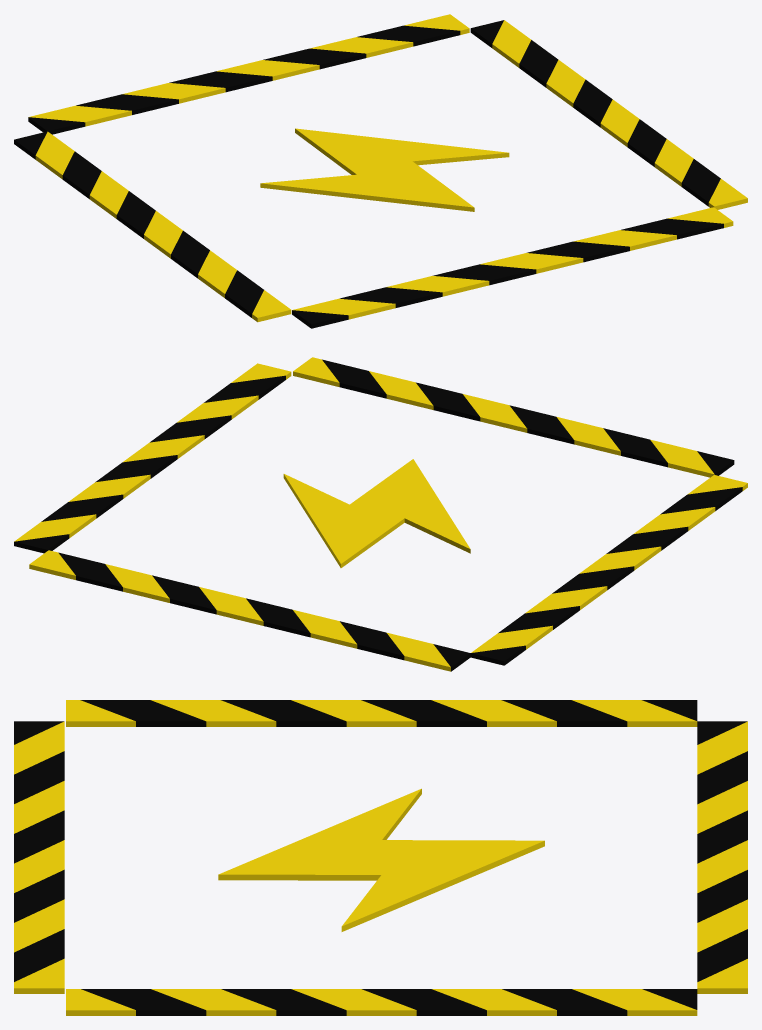
File: 차징존.fbx
3 renders of one model, top to bottom at view 1: azimuth 30°, elevation 25°; view 2: azimuth 150°, elevation 25°; view 3: azimuth 270°, elevation 25°, orthographic. The views are drawn at different scales.
Visible parts, largest first — view 1: Rectangle002, Rectangle003, Rectangle006, Rectangle004, Rectangle005; view 2: Rectangle003, Rectangle002, Rectangle004, Rectangle005, Rectangle006; view 3: Rectangle004, Rectangle005, Rectangle006, Rectangle003, Rectangle002.
Boxes of the visible parts, box(x1,y1,x2,y2) form: Rectangle002: box(292, 207, 733, 328); Rectangle003: box(28, 14, 469, 134); Rectangle006: box(260, 128, 509, 211); Rectangle004: box(14, 131, 291, 322); Rectangle005: box(470, 20, 747, 209); Rectangle003: box(29, 550, 470, 671); Rectangle002: box(293, 357, 734, 477); Rectangle004: box(470, 475, 747, 665); Rectangle005: box(14, 363, 291, 553); Rectangle006: box(283, 459, 470, 567); Rectangle004: box(66, 700, 697, 726); Rectangle005: box(66, 989, 697, 1015); Rectangle006: box(218, 788, 544, 931); Rectangle003: box(697, 721, 747, 993); Rectangle002: box(14, 721, 64, 993).
Bounding box in the file's own units: 1.16 × 0.01 × 1.16.
